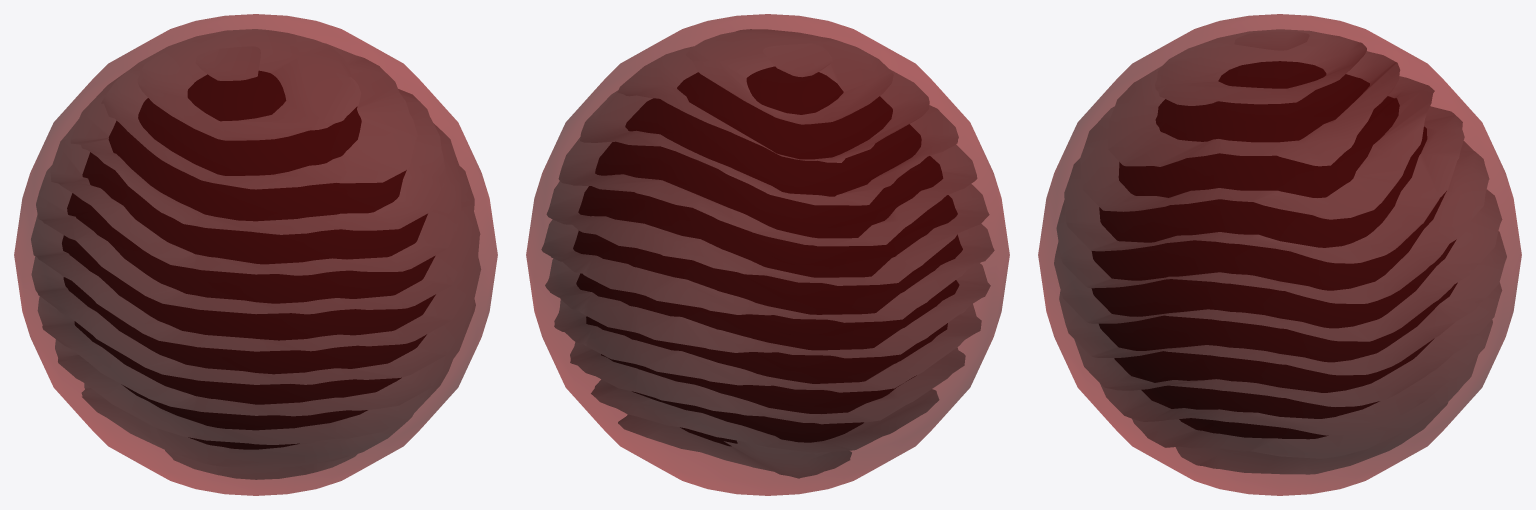
The model's file is Layers - DARK.fbx.
3 renders of one model, left to right at view 1: azimuth 30°, elevation 25°; view 2: azimuth 150°, elevation 25°; view 3: azimuth 270°, elevation 25°, orthographic.
Visible parts, largest first — view 1: SketchUp; view 2: SketchUp; view 3: SketchUp.
Part boxes in pixels (bbox=[...]): SketchUp: bbox=[14, 14, 497, 495]; SketchUp: bbox=[526, 14, 1009, 495]; SketchUp: bbox=[1038, 14, 1521, 495].
Size of the model in its own units: 100 by 100 by 100.
